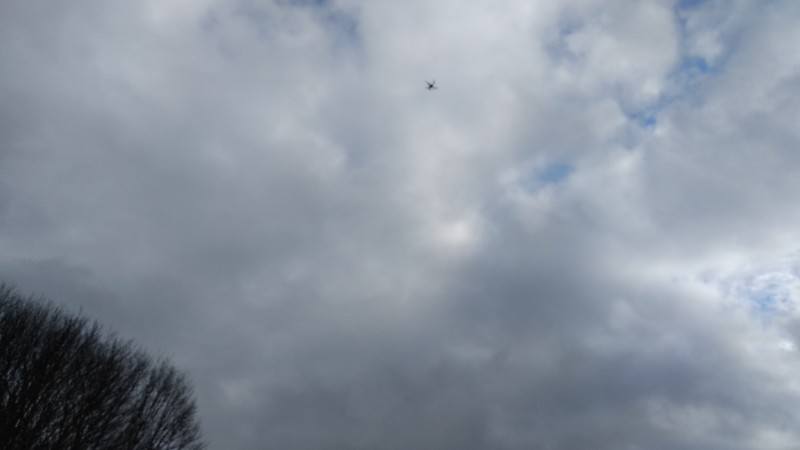drone: (426, 80, 438, 89)
